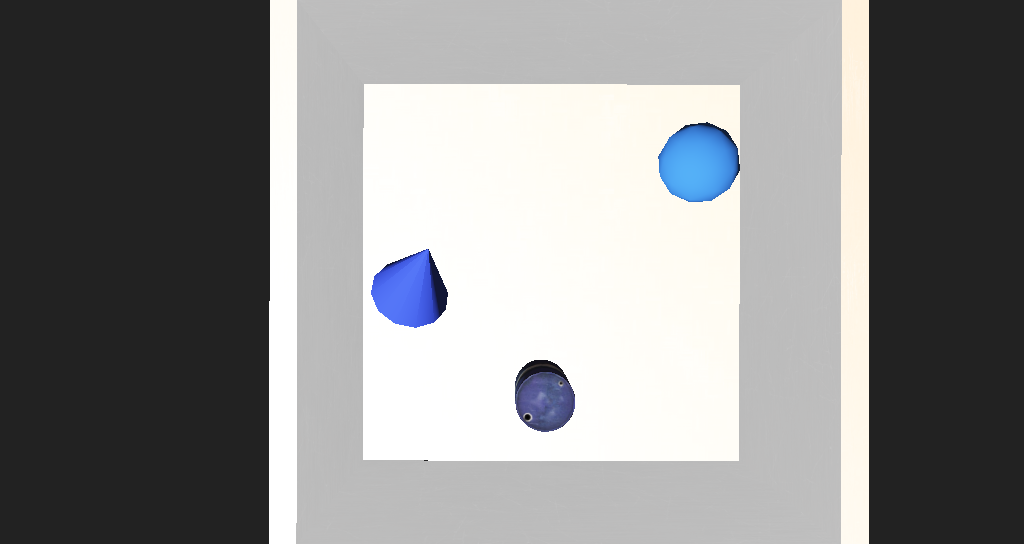cone: (475, 317, 522, 360)
cylinder: (337, 229, 445, 305)
sphere: (586, 188, 653, 231)
